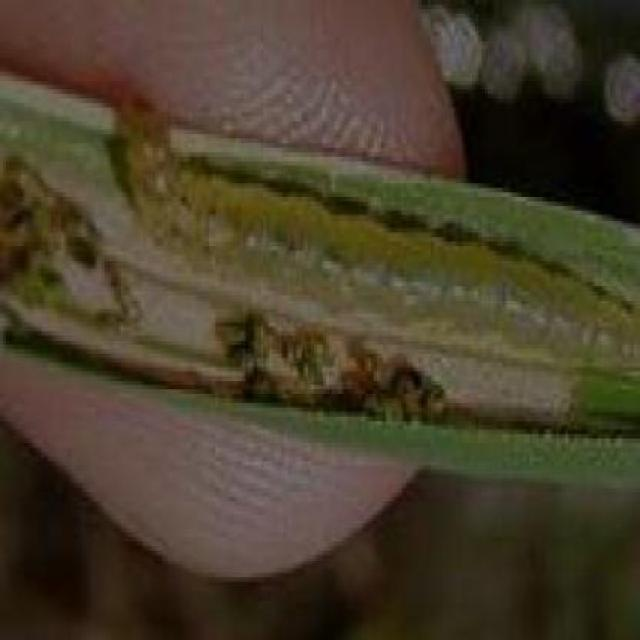leaf-folder: (86, 58, 640, 380)
